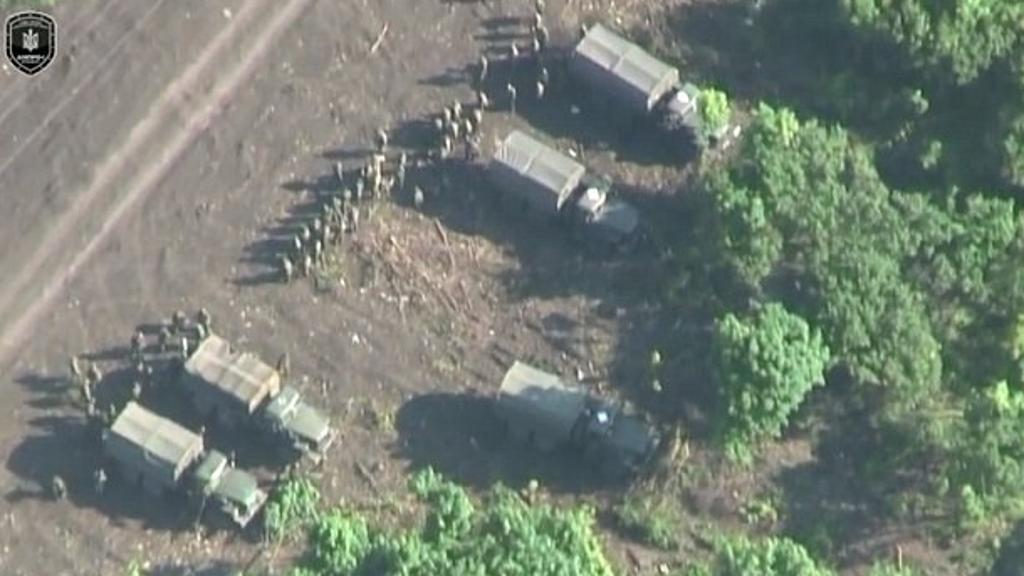TRUCK: (98, 400, 268, 533), (567, 22, 725, 151), (491, 358, 658, 478), (486, 129, 641, 257), (179, 336, 339, 460)
